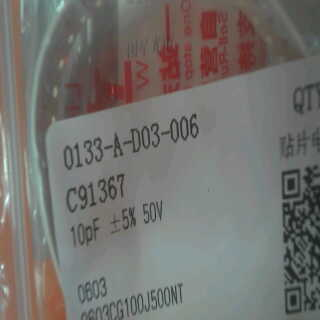10pF: (68, 214, 103, 246)
